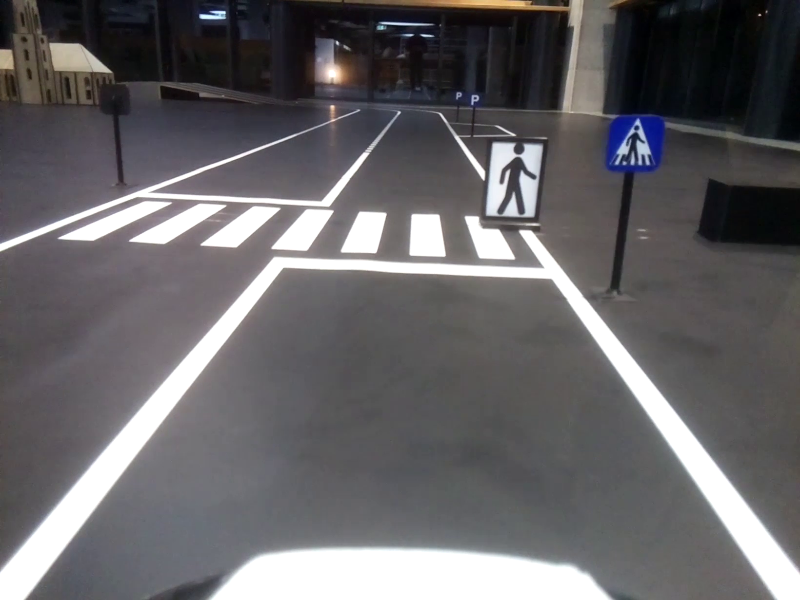pedestrians: (605, 114, 665, 173)
